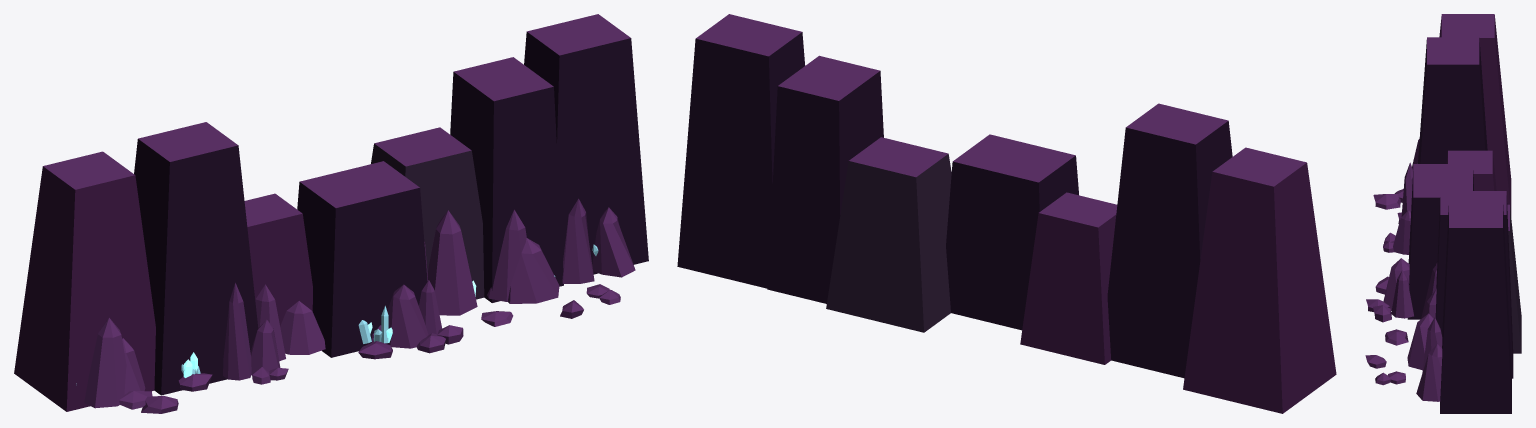
The model's file is W4_Mid_CaveWall_A.fbx.
3 renders of one model, left to right at view 1: azimuth 30°, elevation 25°; view 2: azimuth 150°, elevation 25°; view 3: azimuth 270°, elevation 25°, orthographic. The views are drawn at different scales.
Visible parts, largest first — view 1: W4_Mid_CaveWall_A; view 2: W4_Mid_CaveWall_A; view 3: W4_Mid_CaveWall_A.
Boxes of the visible parts, x1,y1,x2,y2 form: W4_Mid_CaveWall_A: [14, 14, 648, 413]; W4_Mid_CaveWall_A: [677, 14, 1336, 413]; W4_Mid_CaveWall_A: [1365, 14, 1521, 413].
Bounding box in the file's own units: 139 × 50.2 × 38.88.
